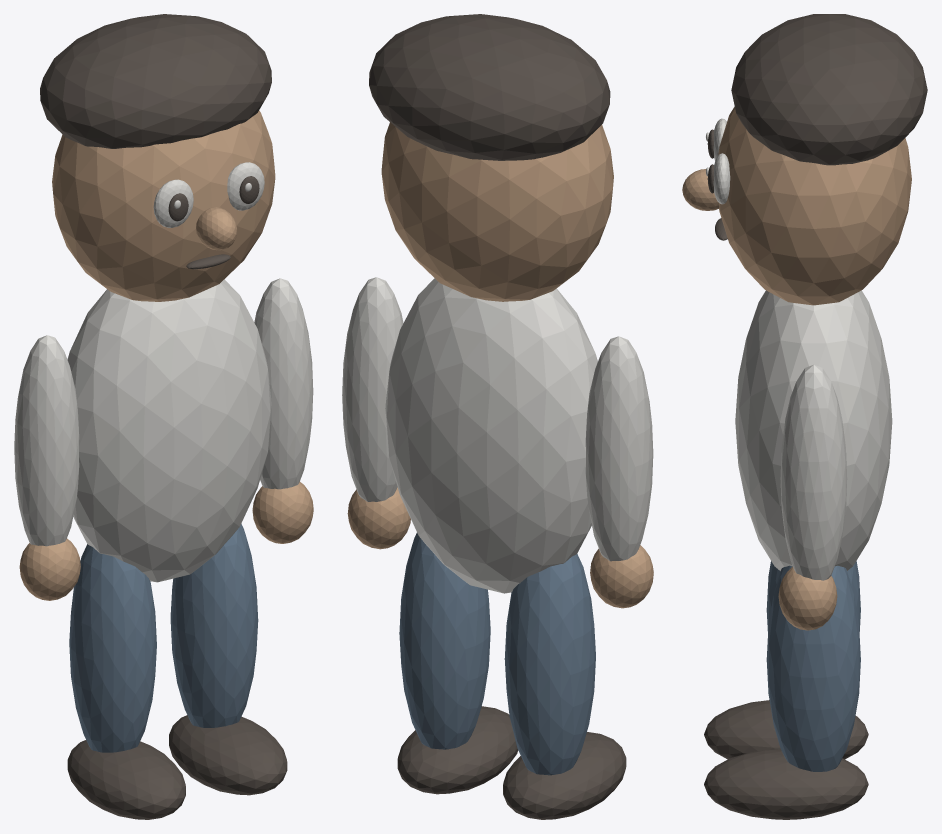
The model's file is zamba.glb.
3 views of the same model, side by side, from view 1: azimuth 30°, elevation 25°; view 2: azimuth 150°, elevation 25°; view 3: azimuth 270°, elevation 25° (orthographic). The views are drawn at different scales.
Visible parts, largest first — view 1: guardapolvo, cabeza, pelo, pierna0, pierna1, brazo0, brazo1, zapato0, zapato1, mano0, mano1, nariz (+2 smaller); view 2: guardapolvo, cabeza, pelo, pierna0, pierna1, brazo0, brazo1, zapato0, zapato1, mano0, mano1; view 3: guardapolvo, cabeza, pelo, pierna1, brazo1, zapato1, zapato0, mano1, nariz, pierna0, ojo1.
Boxes of the visible parts, x1,y1,x2,y2 form: guardapolvo: [67, 279, 271, 582]; cabeza: [52, 110, 275, 301]; pelo: [40, 14, 271, 148]; pierna0: [69, 544, 156, 752]; pierna1: [170, 524, 258, 727]; brazo0: [14, 335, 79, 546]; brazo1: [254, 278, 313, 489]; zapato0: [67, 740, 185, 819]; zapato1: [169, 715, 287, 795]; mano0: [19, 538, 80, 600]; mano1: [252, 481, 313, 543]; nariz: [196, 207, 237, 250]; guardapolvo: [385, 278, 597, 593]; cabeza: [381, 122, 613, 301]; pelo: [369, 14, 610, 160]; pierna0: [504, 554, 595, 775]; pierna1: [399, 533, 490, 749]; brazo0: [585, 336, 653, 561]; brazo1: [342, 277, 403, 501]; zapato0: [503, 732, 626, 819]; zapato1: [397, 706, 518, 794]; mano0: [590, 545, 653, 608]; mano1: [347, 487, 410, 549]; guardapolvo: [735, 290, 892, 570]; cabeza: [718, 107, 911, 305]; pelo: [731, 14, 927, 165]; pierna1: [766, 565, 860, 771]; brazo1: [780, 364, 847, 580]; zapato1: [704, 749, 868, 819]; zapato0: [704, 700, 868, 759]; mano1: [778, 566, 837, 630]; nariz: [682, 169, 719, 210]; pierna0: [766, 561, 860, 631]; ojo1: [713, 153, 730, 204].
Bounding box in the file's own units: 0.86 × 2.12 × 0.625.
